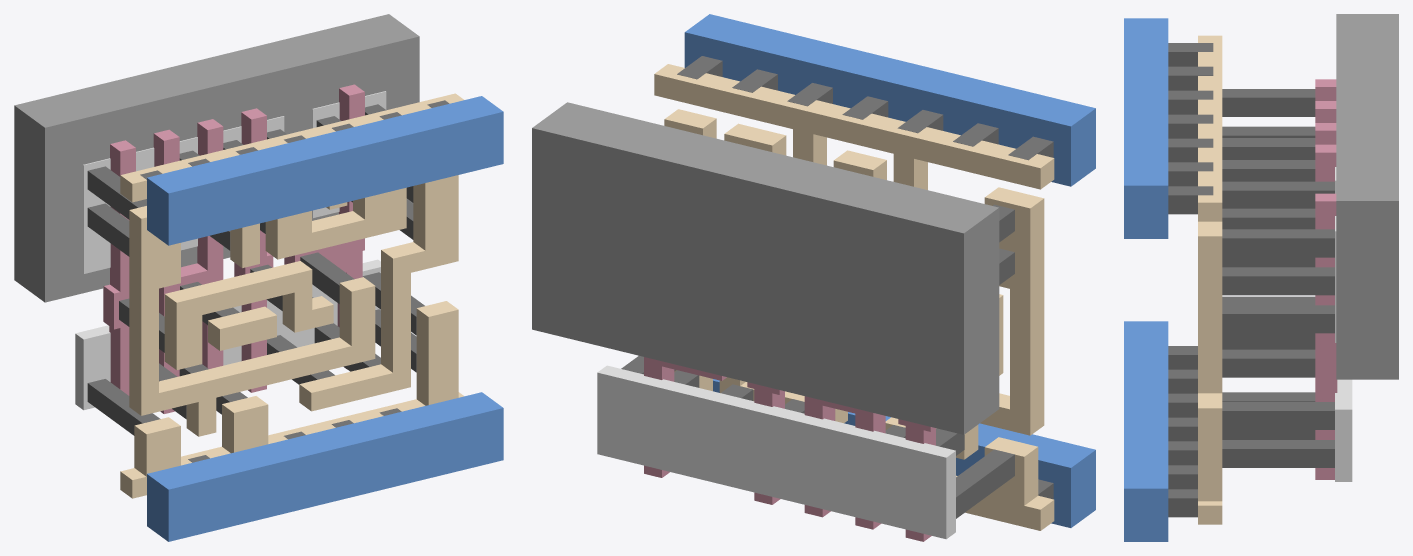
File: sky130_fd_sc_hd__xor2_1.gds.gltf
The picture shows the model from 3 angles, left to right: view 1: azimuth 30°, elevation 25°; view 2: azimuth 150°, elevation 25°; view 3: azimuth 270°, elevation 25°; orthographic projection. The views are drawn at different scales.
Visible parts, largest first — view 1: sky130_fd_sc_hd__xor2_1_li1, sky130_fd_sc_hd__xor2_1_met1, sky130_fd_sc_hd__xor2_1_nwell, sky130_fd_sc_hd__xor2_1_poly, sky130_fd_sc_hd__xor2_1_licon, sky130_fd_sc_hd__xor2_1_diff, sky130_fd_sc_hd__xor2_1_mcon; view 2: sky130_fd_sc_hd__xor2_1_nwell, sky130_fd_sc_hd__xor2_1_li1, sky130_fd_sc_hd__xor2_1_diff, sky130_fd_sc_hd__xor2_1_met1, sky130_fd_sc_hd__xor2_1_licon, sky130_fd_sc_hd__xor2_1_mcon, sky130_fd_sc_hd__xor2_1_poly; view 3: sky130_fd_sc_hd__xor2_1_licon, sky130_fd_sc_hd__xor2_1_nwell, sky130_fd_sc_hd__xor2_1_met1, sky130_fd_sc_hd__xor2_1_mcon, sky130_fd_sc_hd__xor2_1_li1, sky130_fd_sc_hd__xor2_1_poly, sky130_fd_sc_hd__xor2_1_diff.
Boxes of the visible parts, left/top/right/bottom form: sky130_fd_sc_hd__xor2_1_li1: left=120, top=93, right=463, bottom=498; sky130_fd_sc_hd__xor2_1_met1: left=147, top=96, right=503, bottom=541; sky130_fd_sc_hd__xor2_1_nwell: left=14, top=14, right=419, bottom=302; sky130_fd_sc_hd__xor2_1_poly: left=103, top=84, right=364, bottom=413; sky130_fd_sc_hd__xor2_1_licon: left=87, top=104, right=424, bottom=435; sky130_fd_sc_hd__xor2_1_diff: left=75, top=91, right=386, bottom=410; sky130_fd_sc_hd__xor2_1_mcon: left=140, top=100, right=449, bottom=462; sky130_fd_sc_hd__xor2_1_nwell: left=532, top=102, right=999, bottom=434; sky130_fd_sc_hd__xor2_1_li1: left=654, top=64, right=1054, bottom=530; sky130_fd_sc_hd__xor2_1_diff: left=597, top=365, right=955, bottom=539; sky130_fd_sc_hd__xor2_1_met1: left=684, top=14, right=1095, bottom=527; sky130_fd_sc_hd__xor2_1_licon: left=621, top=204, right=1014, bottom=518; sky130_fd_sc_hd__xor2_1_mcon: left=677, top=56, right=1053, bottom=499; sky130_fd_sc_hd__xor2_1_poly: left=644, top=357, right=935, bottom=541; sky130_fd_sc_hd__xor2_1_licon: left=1222, top=89, right=1334, bottom=467; sky130_fd_sc_hd__xor2_1_nwell: left=1336, top=14, right=1398, bottom=379; sky130_fd_sc_hd__xor2_1_met1: left=1124, top=18, right=1168, bottom=541; sky130_fd_sc_hd__xor2_1_mcon: left=1168, top=43, right=1213, bottom=517; sky130_fd_sc_hd__xor2_1_li1: left=1198, top=35, right=1222, bottom=524; sky130_fd_sc_hd__xor2_1_poly: left=1315, top=79, right=1337, bottom=479; sky130_fd_sc_hd__xor2_1_diff: left=1335, top=167, right=1352, bottom=481.
Size of the model in its own units: 3.6 by 3.2 by 2.24.
